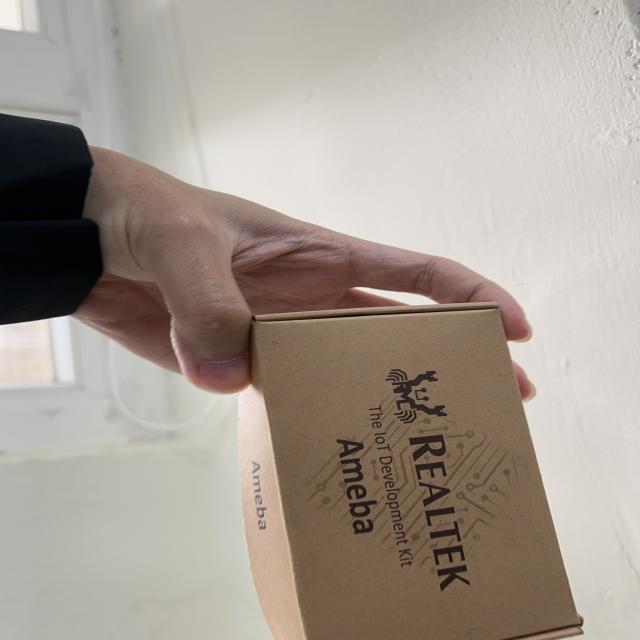box: (195, 293, 590, 640)
